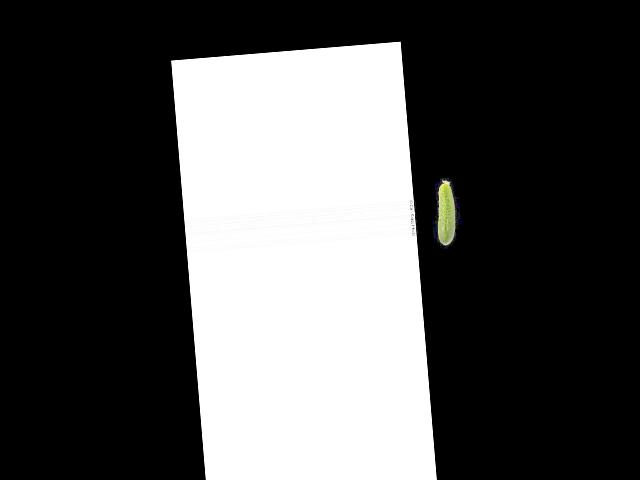cucumber: (433, 179, 457, 246)
